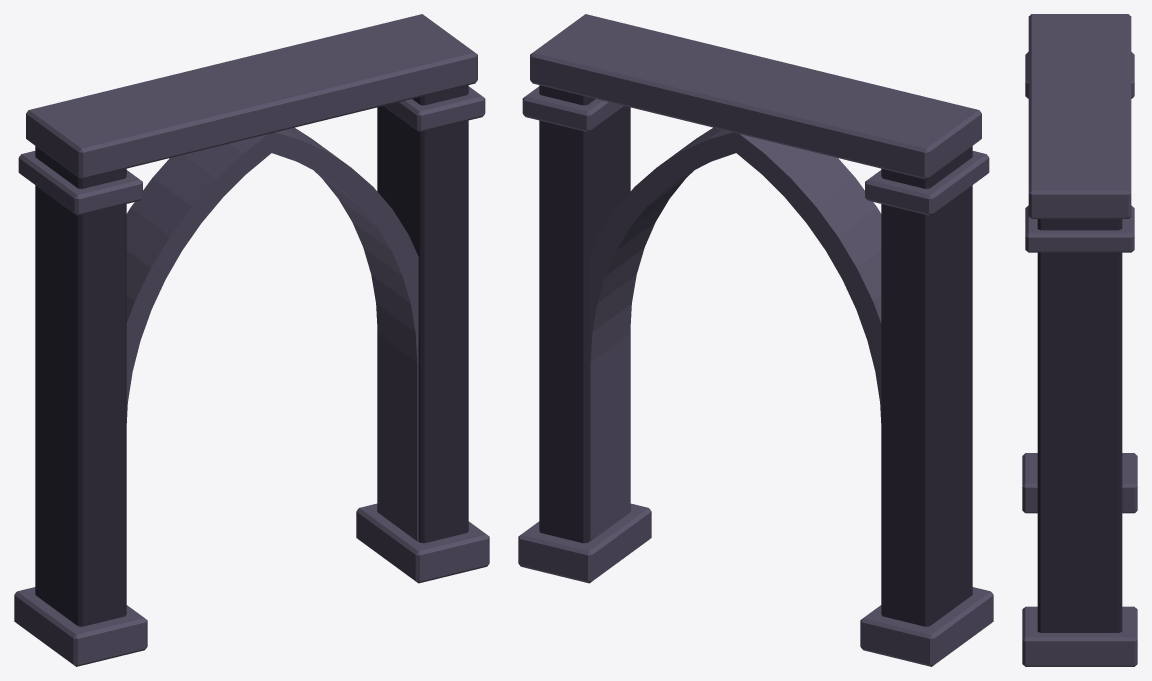
The model's file is cloister-bay.glb.
3 renders of one model, left to right at view 1: azimuth 30°, elevation 25°; view 2: azimuth 150°, elevation 25°; view 3: azimuth 270°, elevation 25°, orthographic. The views are drawn at different scales.
Parts seen in each view (by area): view 1: cloister-bay; view 2: cloister-bay; view 3: cloister-bay.
Boxes of the visible parts, box(x1,y1,x2,y2) form: cloister-bay: box(14, 14, 489, 666); cloister-bay: box(518, 14, 993, 666); cloister-bay: box(1022, 14, 1137, 666).
Size of the model in its own units: 7.3 by 8.61 by 1.9.
